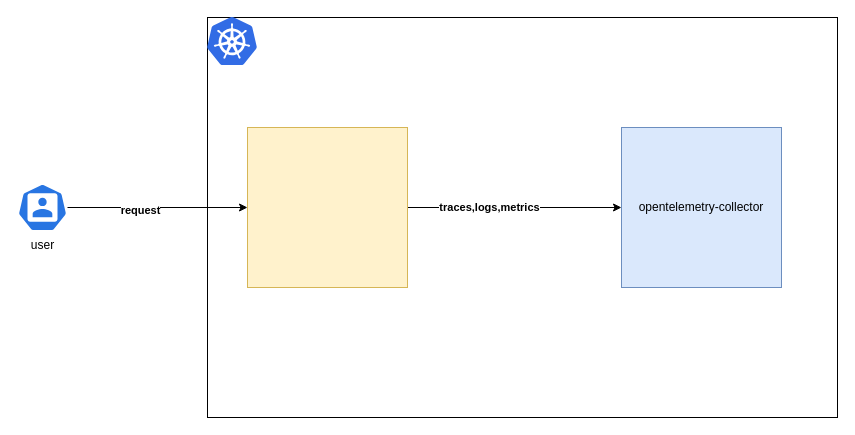
Image size: 855x435. Some labels were removed from this diagram. Here are the shapes that lost their labels. From the top down, the centre of each, then its label:
At pixel 232 41: "kubernetes cluster".
At pixel 327 207: "single-app-single-collector API service".
